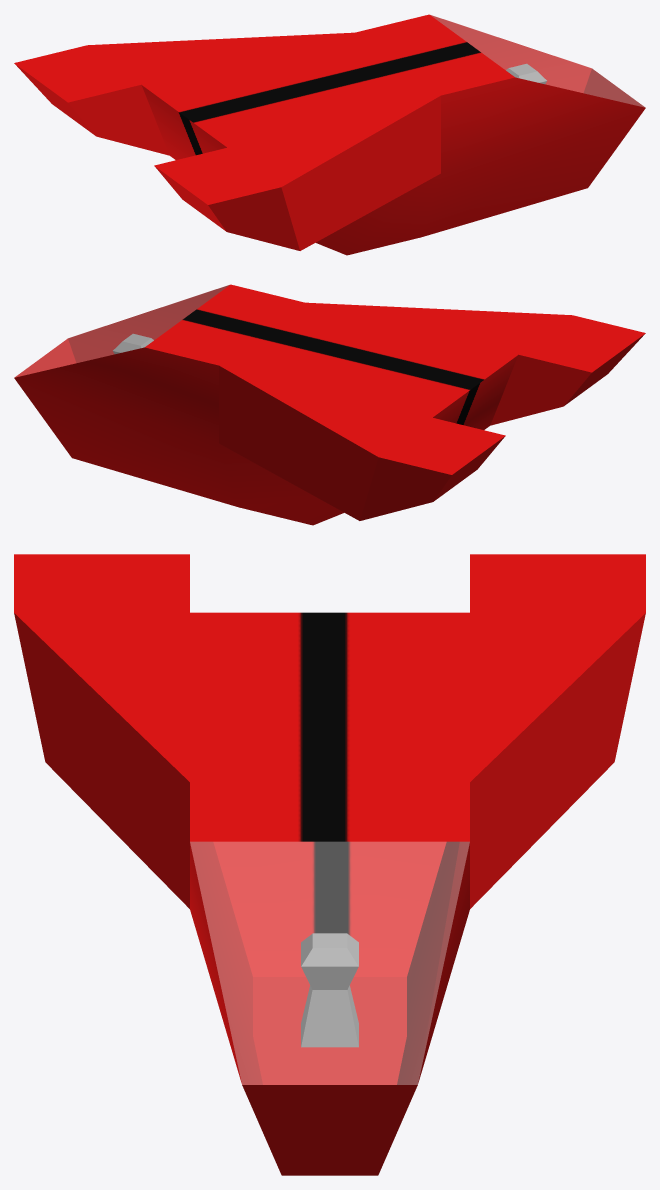
File: spaceship_v2.fbx
3 renders of one model, top to bottom at view 1: azimuth 30°, elevation 25°; view 2: azimuth 150°, elevation 25°; view 3: azimuth 270°, elevation 25°, orthographic. The views are drawn at different scales.
Parts seen in each view (by area): view 1: pilot; view 2: pilot; view 3: pilot.
Part boxes in pixels (box(x1,y1,x2,y2)): pilot: box(14, 14, 645, 255); pilot: box(14, 284, 645, 525); pilot: box(14, 554, 645, 1175).
Size of the model in its own units: 956 by 280 by 632.
3 materials, 1 textured.
